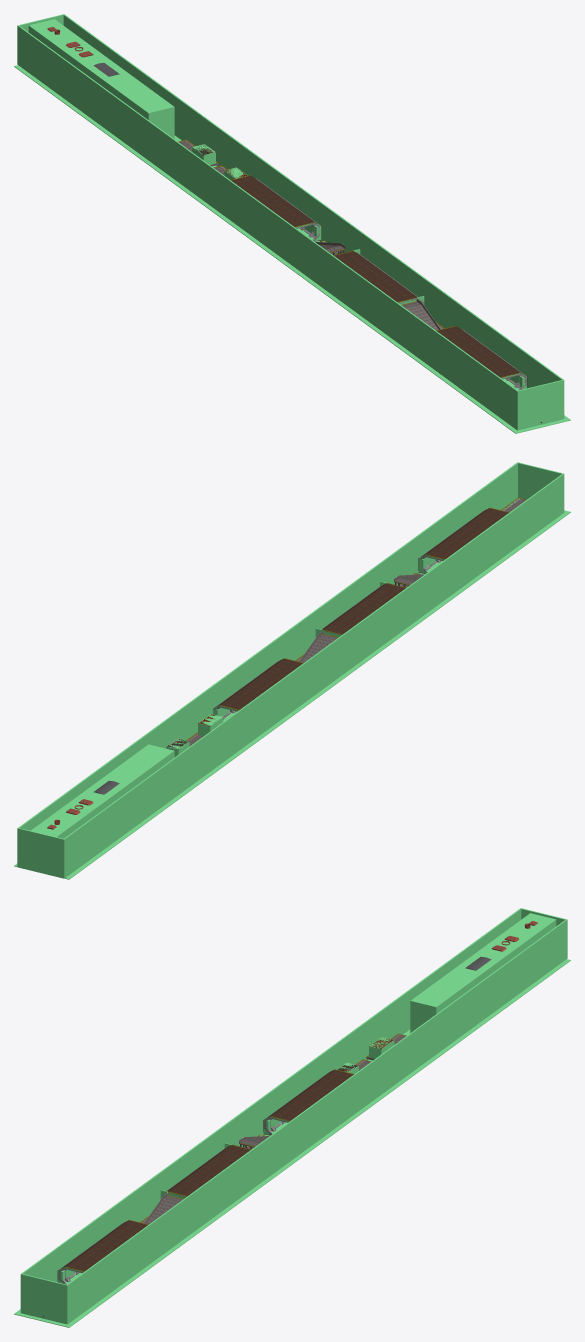
The model's file is TrainStage_Unity.fbx.
3 renders of one model, top to bottom at view 1: azimuth 30°, elevation 25°; view 2: azimuth 150°, elevation 25°; view 3: azimuth 330°, elevation 25°, orthographic.
Visible parts, largest first — view 1: Outer__Col1, Outer__Col2, Locomotive__Col0, Outer__Col0, Outer__Col3, Car3_Corridor__Mesh, Car5_Corridor__Mesh, Car4_CorridorRoof__Mesh; view 2: Outer__Col1, Outer__Col2, Locomotive__Col0, Outer__Col0, Outer__Col4, Car5_Corridor__Mesh, Car3_Corridor__Mesh, Car4_CorridorRoof__Mesh, Outer__Col3; view 3: Outer__Col2, Outer__Col1, Locomotive__Col0, Outer__Col0, Outer__Col3, Car3_Corridor__Mesh, Car5_Corridor__Mesh, Car4_CorridorRoof__Mesh.
Boxes of the visible parts, bbox=[...] form: Outer__Col1: bbox=[18, 25, 517, 429]; Outer__Col2: bbox=[63, 14, 563, 388]; Locomotive__Col0: bbox=[28, 19, 174, 138]; Outer__Col0: bbox=[14, 65, 570, 433]; Outer__Col3: bbox=[516, 379, 564, 430]; Car3_Corridor__Mesh: bbox=[230, 175, 321, 241]; Car5_Corridor__Mesh: bbox=[436, 326, 527, 390]; Car4_CorridorRoof__Mesh: bbox=[333, 250, 424, 304]; Outer__Col1: bbox=[64, 474, 563, 877]; Outer__Col2: bbox=[18, 463, 517, 830]; Locomotive__Col0: bbox=[31, 744, 174, 838]; Outer__Col0: bbox=[14, 510, 570, 879]; Outer__Col4: bbox=[17, 827, 64, 878]; Car5_Corridor__Mesh: bbox=[418, 507, 509, 573]; Car3_Corridor__Mesh: bbox=[213, 658, 303, 719]; Car4_CorridorRoof__Mesh: bbox=[321, 583, 406, 634]; Outer__Col3: bbox=[517, 462, 564, 512]; Outer__Col2: bbox=[67, 919, 566, 1323]; Outer__Col1: bbox=[21, 908, 521, 1282]; Locomotive__Col0: bbox=[410, 913, 556, 1032]; Outer__Col0: bbox=[14, 959, 570, 1327]; Outer__Col3: bbox=[20, 1273, 68, 1324]; Car3_Corridor__Mesh: bbox=[263, 1069, 354, 1135]; Car5_Corridor__Mesh: bbox=[57, 1220, 148, 1284]; Car4_CorridorRoof__Mesh: bbox=[160, 1144, 251, 1199].
Bounding box in the file's own units: 20 × 14.04 × 315.
